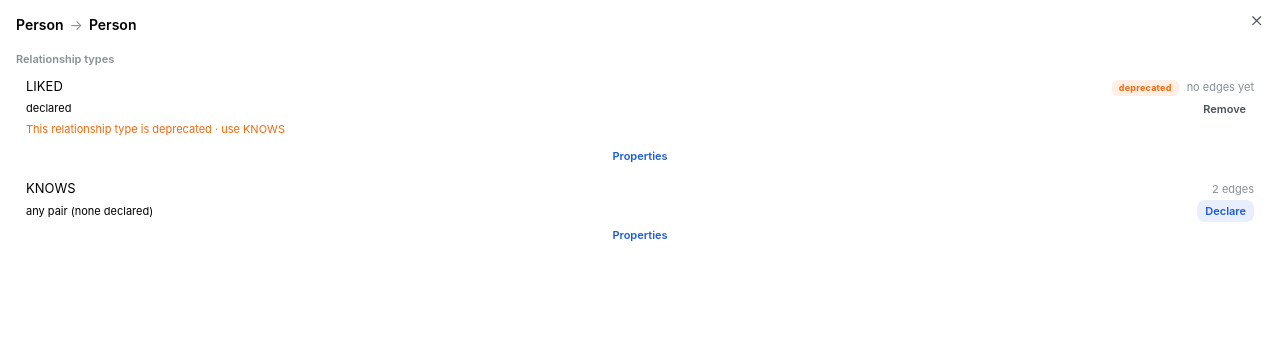
Test: the diagram's side panel › marks a deprecated relationship type on a line and offers its actions with its properties
Expected: the text "This relationship type is deprecated · use KNOWS" is shown, x1=26 y1=122 x2=285 y2=136
What coordinates should you click on to do the following:
click the button "Properties" below "LIKED"
I would click on:
 (640, 156)
Its box is x1=26 y1=146 x2=1254 y2=168.
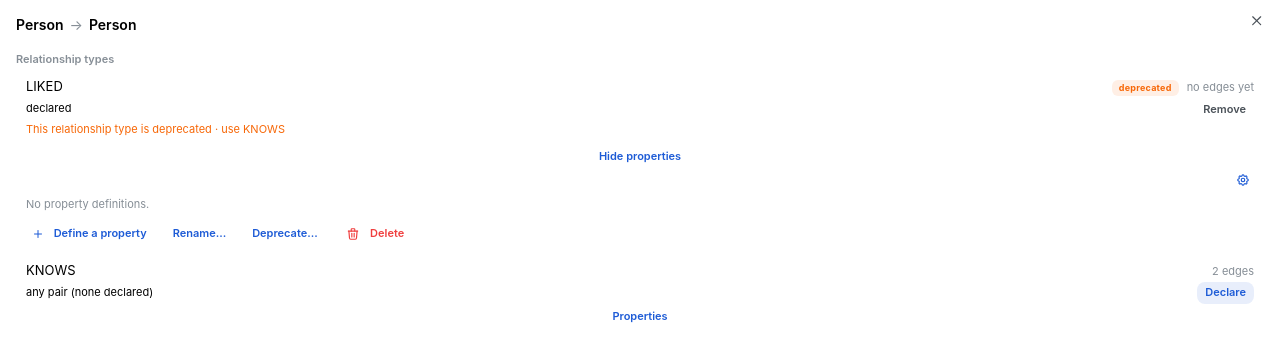
Now the button "Rename…" is shown, box x1=165 y1=223 x2=234 y2=245
Now the button "Delete" is shown, box x1=336 y1=219 x2=419 y2=249
